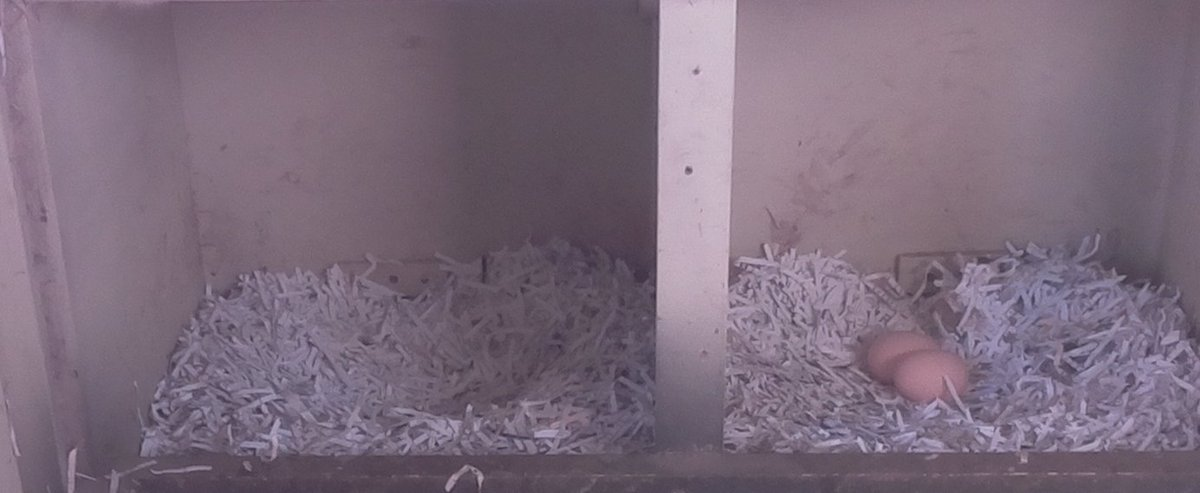egg: (891, 346, 974, 407), (865, 328, 944, 384)
